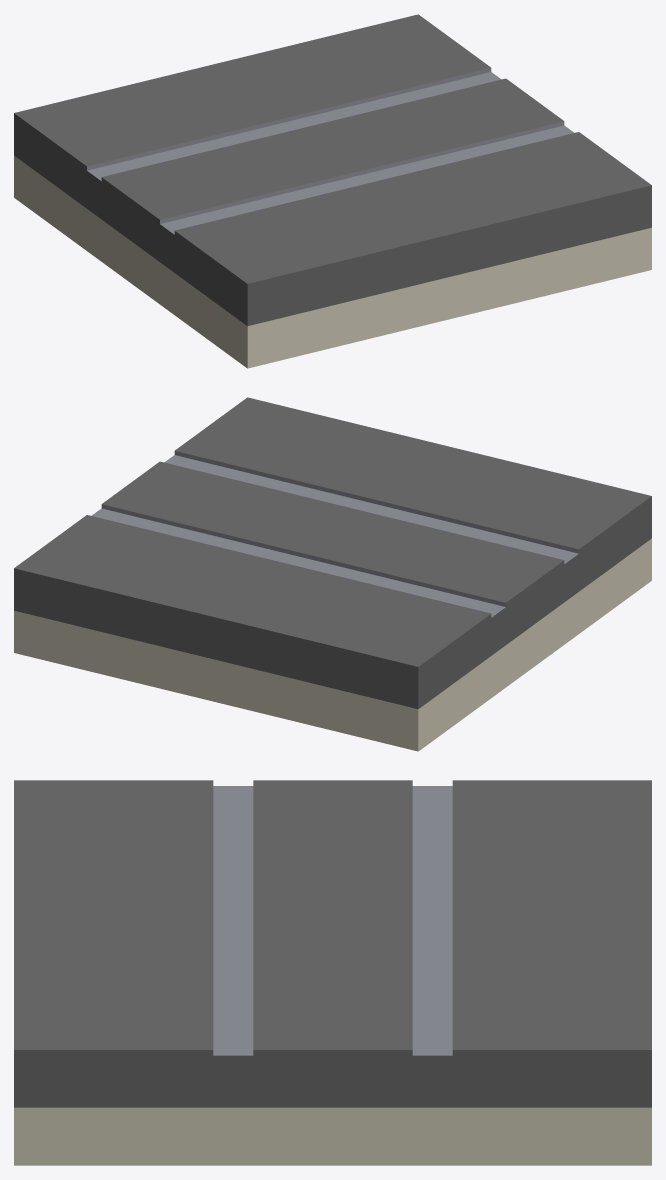
Rendered from tile262.obj.
3 renders of one model, top to bottom at view 1: azimuth 30°, elevation 25°; view 2: azimuth 150°, elevation 25°; view 3: azimuth 270°, elevation 25°, orthographic. The views are drawn at different scales.
Visible parts, largest first — view 1: tile262; view 2: tile262; view 3: tile262.
Part boxes in pixels (box(x1,y1,x2,y2)): tile262: box(14, 14, 651, 368); tile262: box(14, 397, 651, 751); tile262: box(14, 780, 651, 1165).
Bounding box in the file's own units: 1 × 0.2 × 1.
